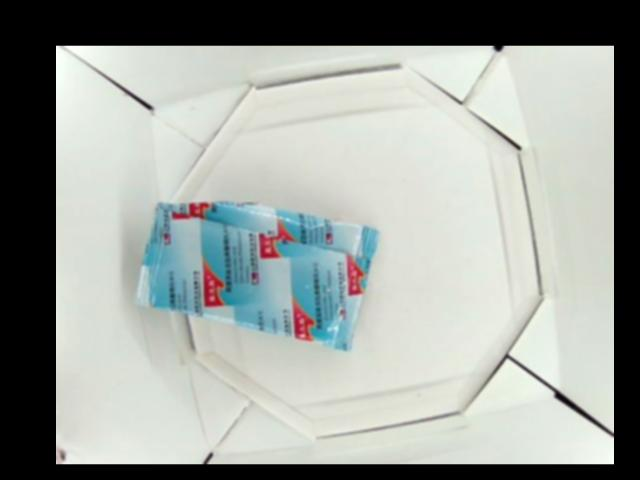Medicine: (132, 198, 381, 349)
